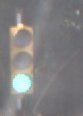Green: (10, 22, 35, 98)
